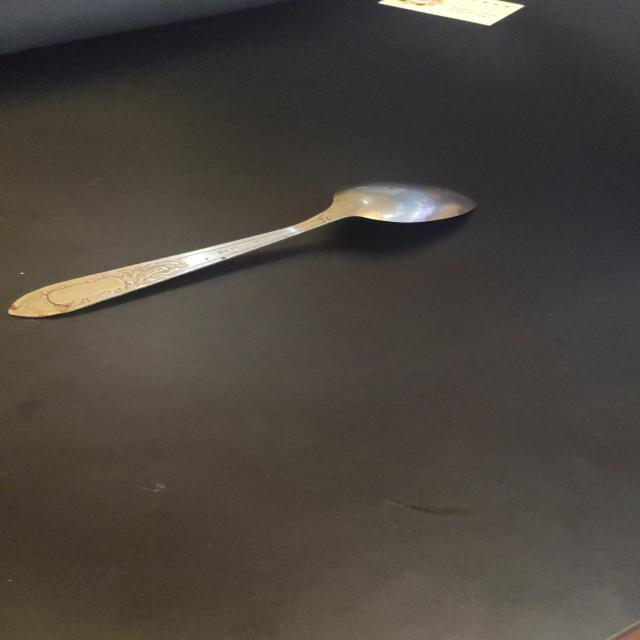plastic utensil: (9, 184, 476, 318)
